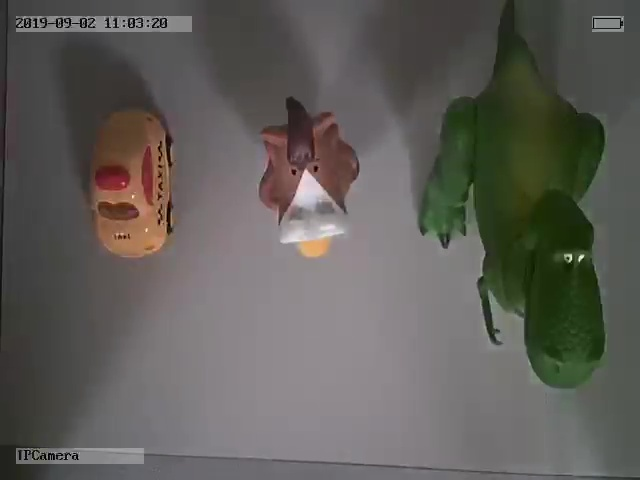car: (87, 105, 179, 259)
horse: (258, 98, 361, 257)
rex: (417, 9, 606, 390)
